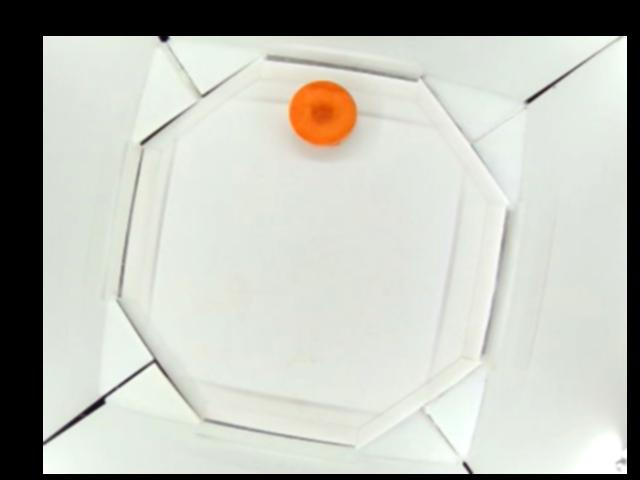Carrot: (288, 80, 355, 146)
